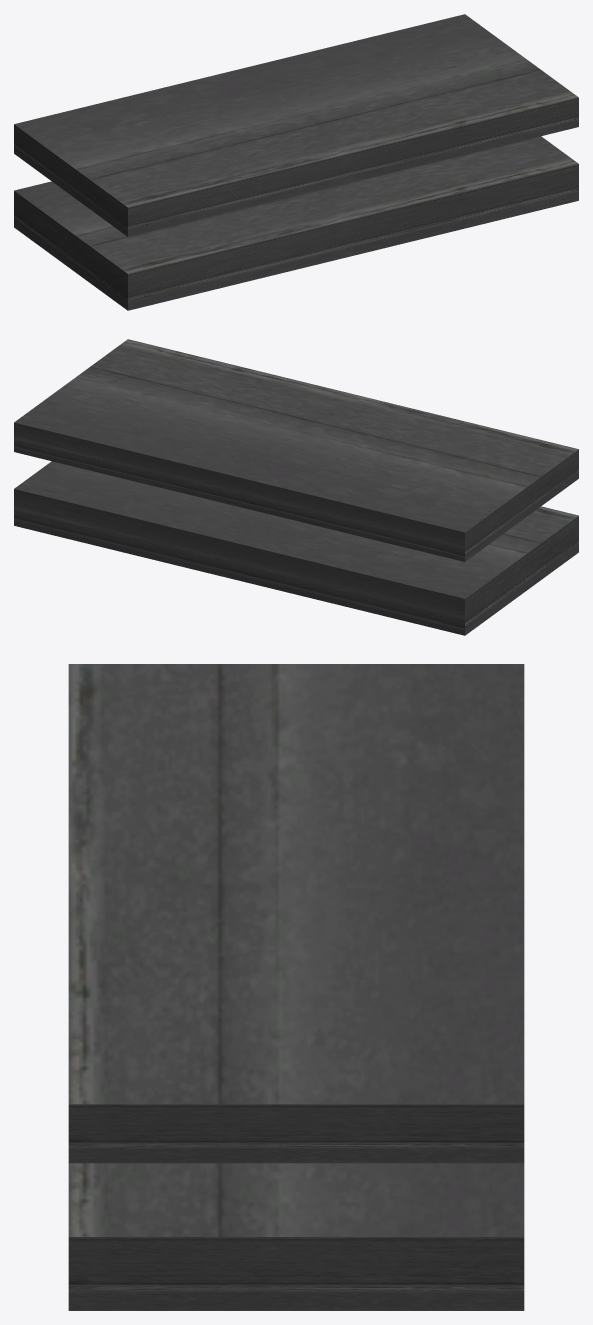
File: p6_wire_trellis_wire_64_lod2.glb
The picture shows the model from 3 angles, top to bottom: view 1: azimuth 30°, elevation 25°; view 2: azimuth 150°, elevation 25°; view 3: azimuth 270°, elevation 25°; orthographic projection. The views are drawn at different scales.
Parts seen in each view (by area): view 1: surf0; view 2: surf0; view 3: surf0.
Part boxes in pixels (left/top/right/bottom): surf0: left=14, top=14, right=578, bottom=310; surf0: left=14, top=339, right=578, bottom=635; surf0: left=68, top=664, right=524, bottom=1310.
Size of the model in its own units: 64 by 14 by 28.
